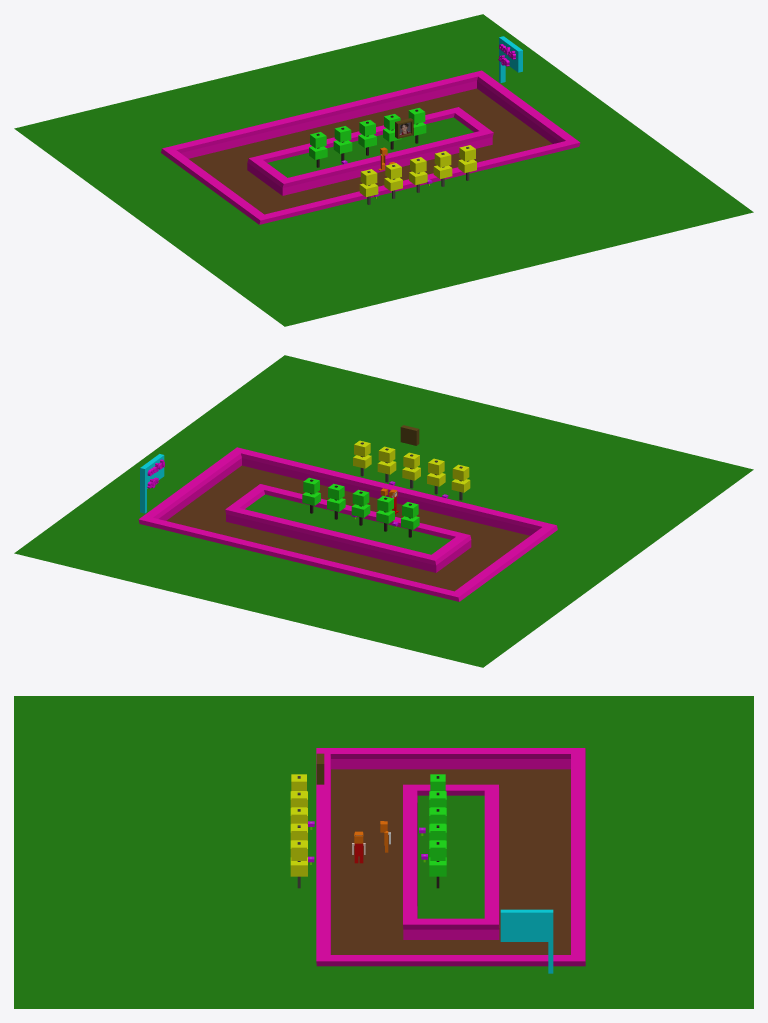
The model's file is renamedfirstproject.glb.
3 renders of one model, top to bottom at view 1: azimuth 30°, elevation 25°; view 2: azimuth 150°, elevation 25°; view 3: azimuth 270°, elevation 25°, orthographic. The views are drawn at different scales.
Visible parts, largest first — view 1: ground, yellow tree, green tree, sign; view 2: ground, yellow tree, green tree, sign; view 3: ground, sign, yellow tree, green tree.
Boxes of the visible parts, x1,y1,x2,y2 form: ground: [14, 14, 753, 326]; yellow tree: [359, 145, 476, 204]; green tree: [309, 108, 426, 167]; sign: [499, 36, 522, 82]; ground: [14, 355, 753, 667]; yellow tree: [353, 440, 470, 500]; green tree: [302, 477, 419, 537]; sign: [140, 454, 164, 513]; ground: [14, 696, 753, 1008]; sign: [500, 909, 553, 973]; yellow tree: [290, 774, 307, 888]; green tree: [429, 774, 446, 888].
Bounding box in the file's own units: 193 × 29.45 × 193.
18 materials, 1 textured.
